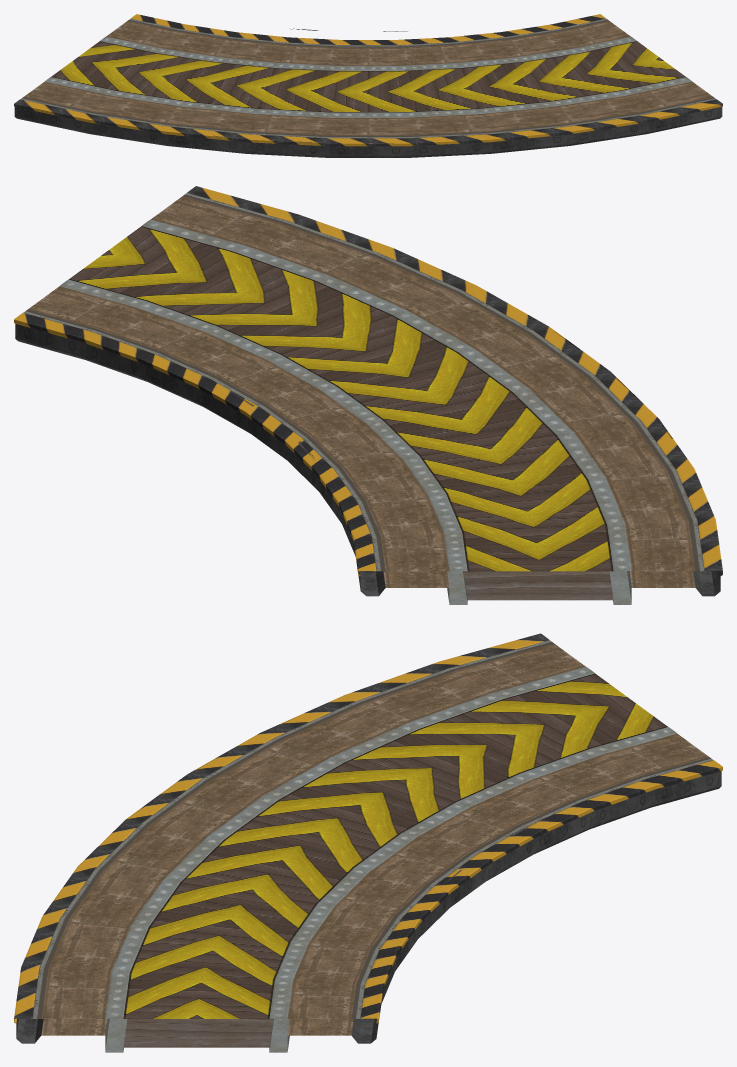
The model's file is Ob_ArrowRoadCurve_RC.fbx.
The picture shows the model from 3 angles, top to bottom: view 1: azimuth 30°, elevation 25°; view 2: azimuth 150°, elevation 25°; view 3: azimuth 270°, elevation 25°; orthographic projection. The views are drawn at different scales.
Parts seen in each view (by area): view 1: Ob_ArrowRoadCurve_RC; view 2: Ob_ArrowRoadCurve_RC; view 3: Ob_ArrowRoadCurve_RC.
Part boxes in pixels (x1,y1,x2,y2): Ob_ArrowRoadCurve_RC: (14, 14, 722, 157); Ob_ArrowRoadCurve_RC: (14, 186, 722, 604); Ob_ArrowRoadCurve_RC: (14, 633, 722, 1052).
Size of the model in its own units: 5001 by 282 by 3887.
